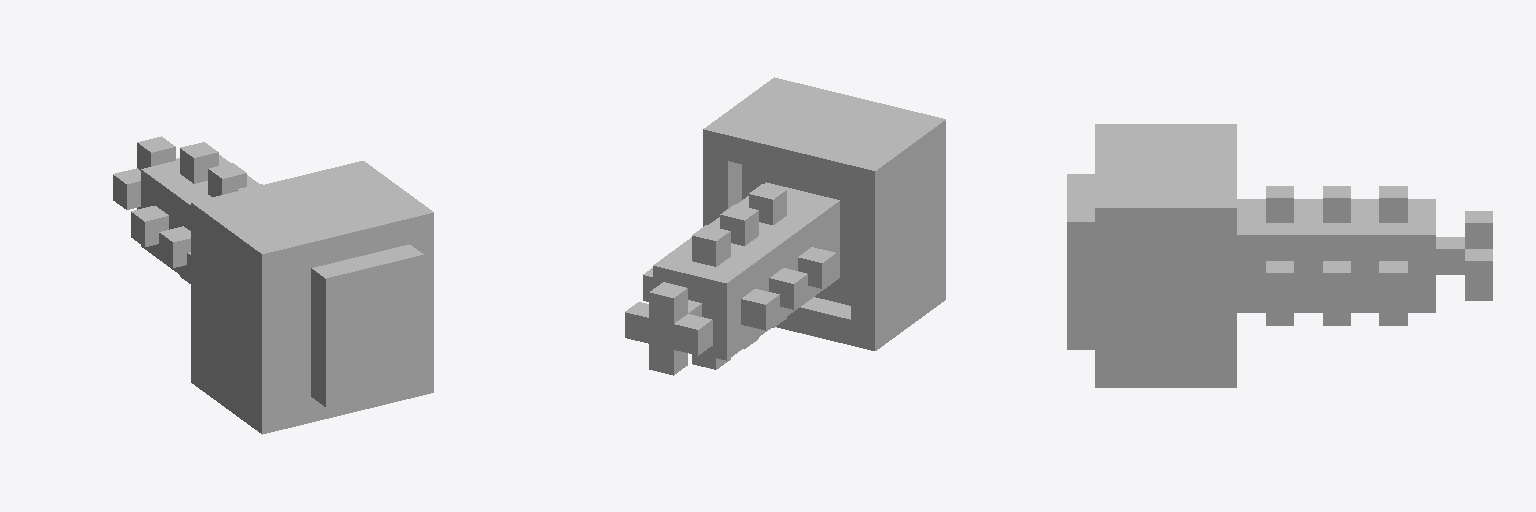
Rendered from Cactus.obj.
3 views of the same model, side by side, from view 1: azimuth 30°, elevation 25°; view 2: azimuth 150°, elevation 25°; view 3: azimuth 270°, elevation 25° (orthographic).
Parts seen in each view (by area): view 1: Cactus; view 2: Cactus; view 3: Cactus.
Boxes of the visible parts, x1,y1,x2,y2 form: Cactus: [113, 136, 433, 434]; Cactus: [625, 77, 945, 375]; Cactus: [1067, 124, 1492, 387].
Bounding box in the file's own units: 0.7 × 0.7 × 1.5.